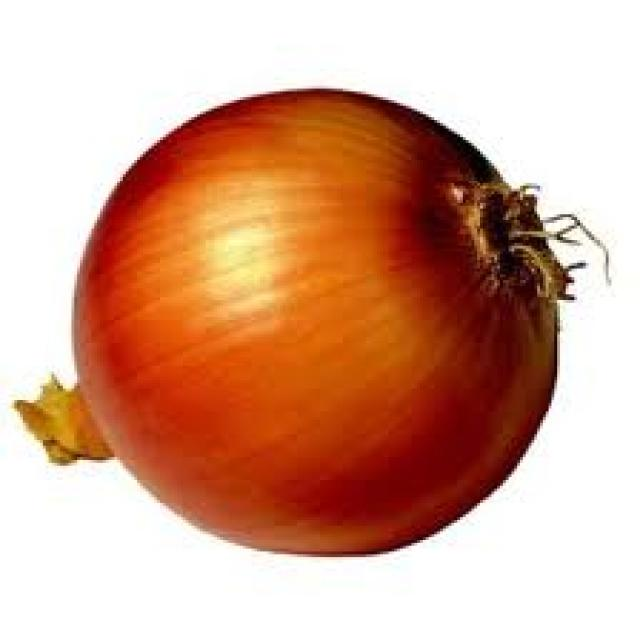onion: (40, 71, 591, 583)
